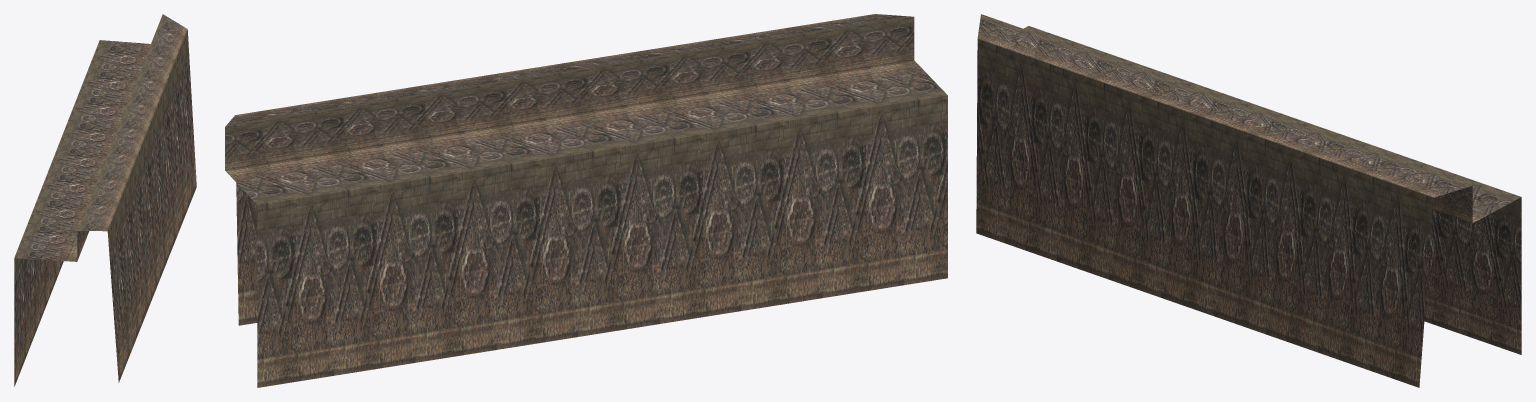
3 renders of one model, left to right at view 1: azimuth 30°, elevation 25°; view 2: azimuth 150°, elevation 25°; view 3: azimuth 270°, elevation 25°, orthographic. The views are drawn at different scales.
Parts seen in each view (by area): view 1: hr_wl3; view 2: hr_wl3; view 3: hr_wl3.
Part boxes in pixels (left/top/right/bottom): hr_wl3: left=14, top=14, right=196, bottom=386; hr_wl3: left=225, top=14, right=947, bottom=387; hr_wl3: left=976, top=14, right=1521, bottom=387.
Bounding box in the file's own units: 15.55 × 6.96 × 17.57.
1 material, 1 textured.
